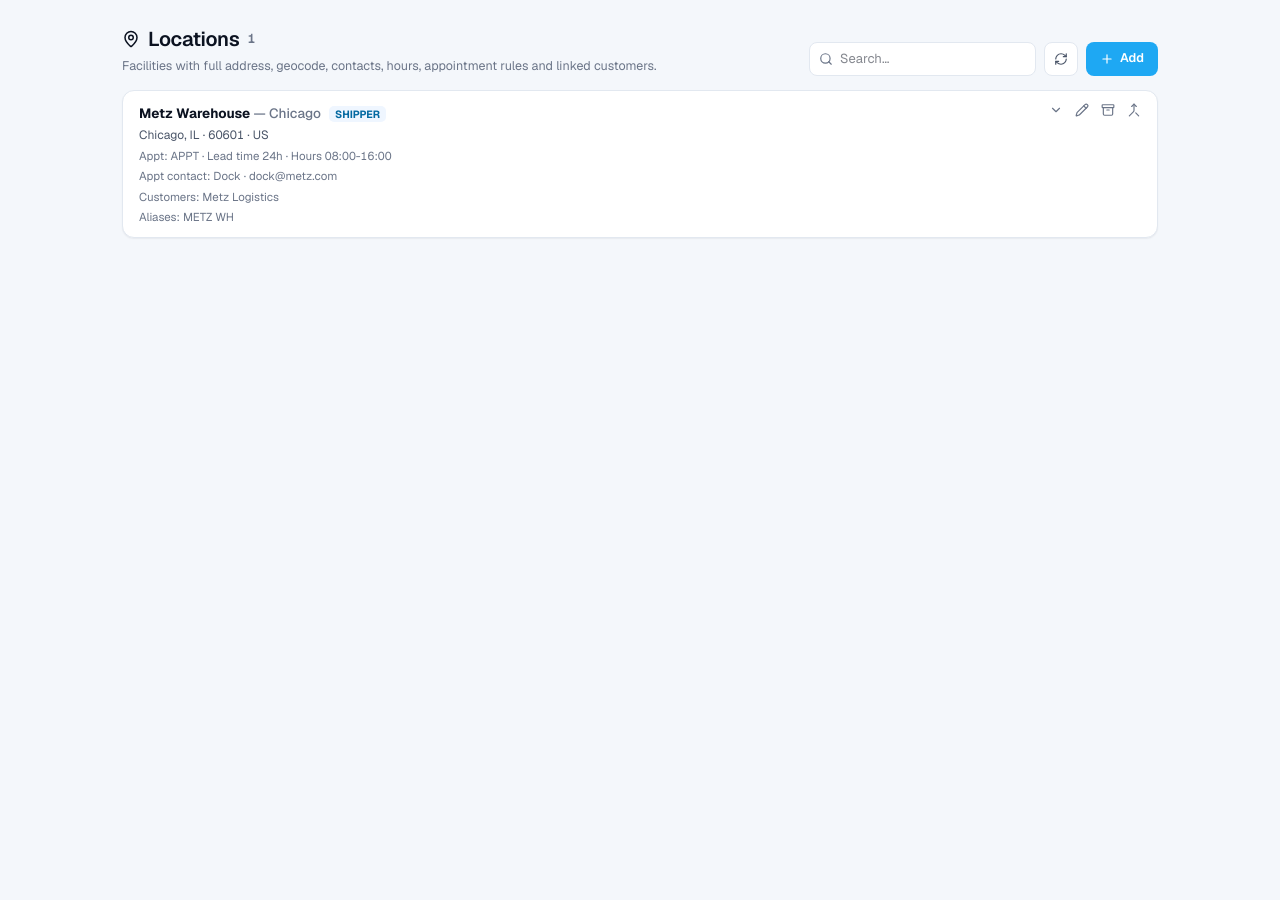
it: DirectoryPages › shows the location merge dialog for admins
Click the button titled "Merge": x=1134, y=110 [1127, 103, 1141, 117]
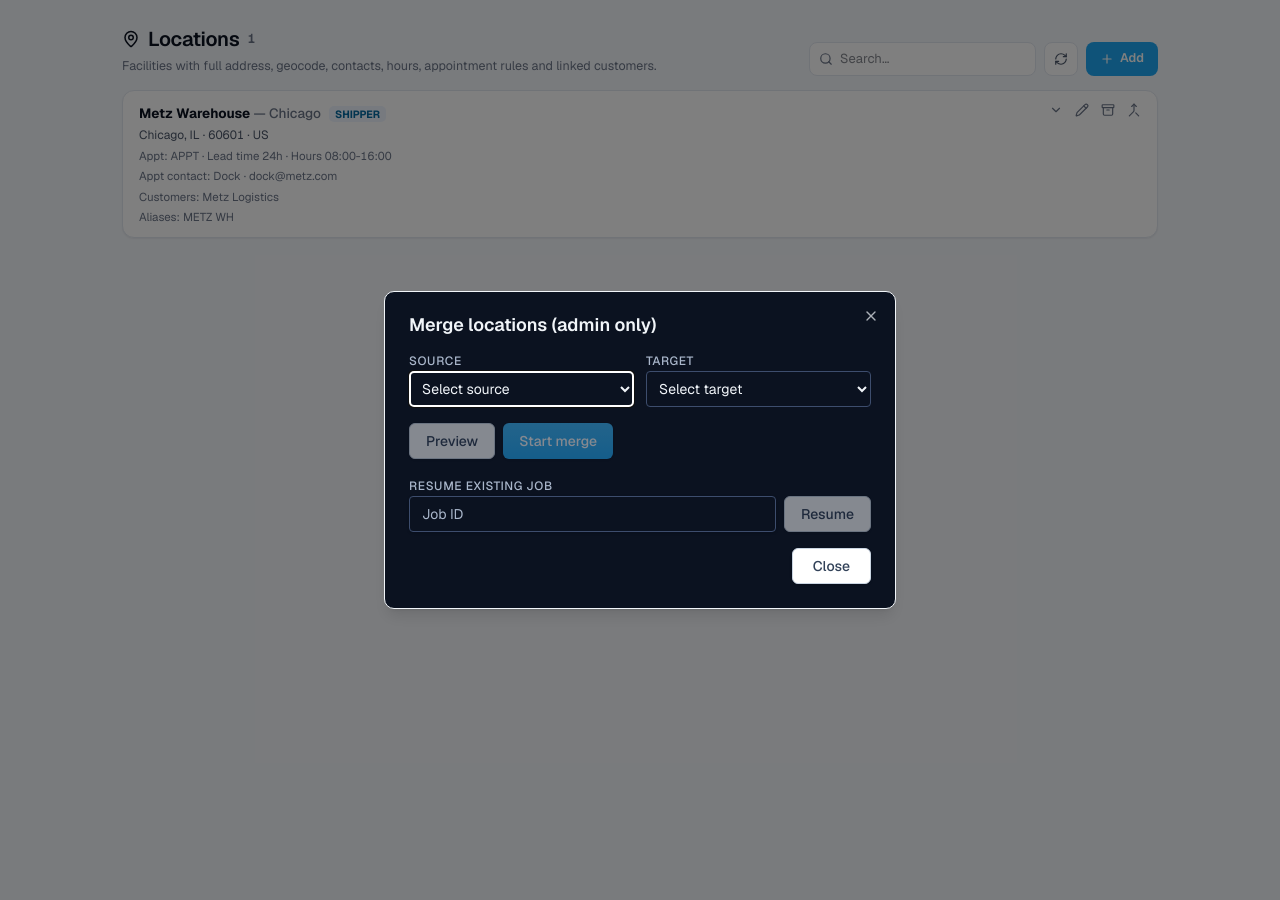
Now the heading "Merge locations (admin only)" is shown, box [409, 313, 656, 336]
